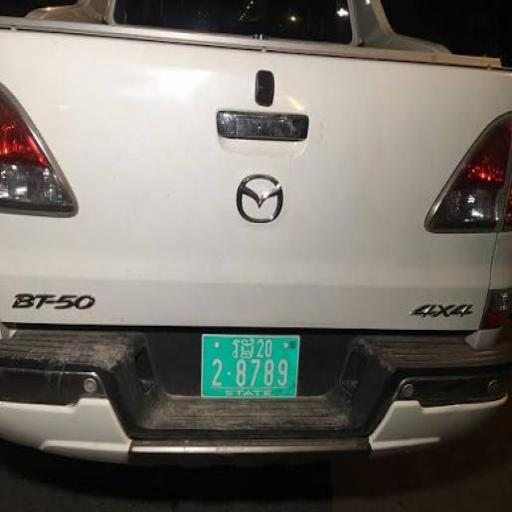Plate Number: (199, 338, 300, 397)
